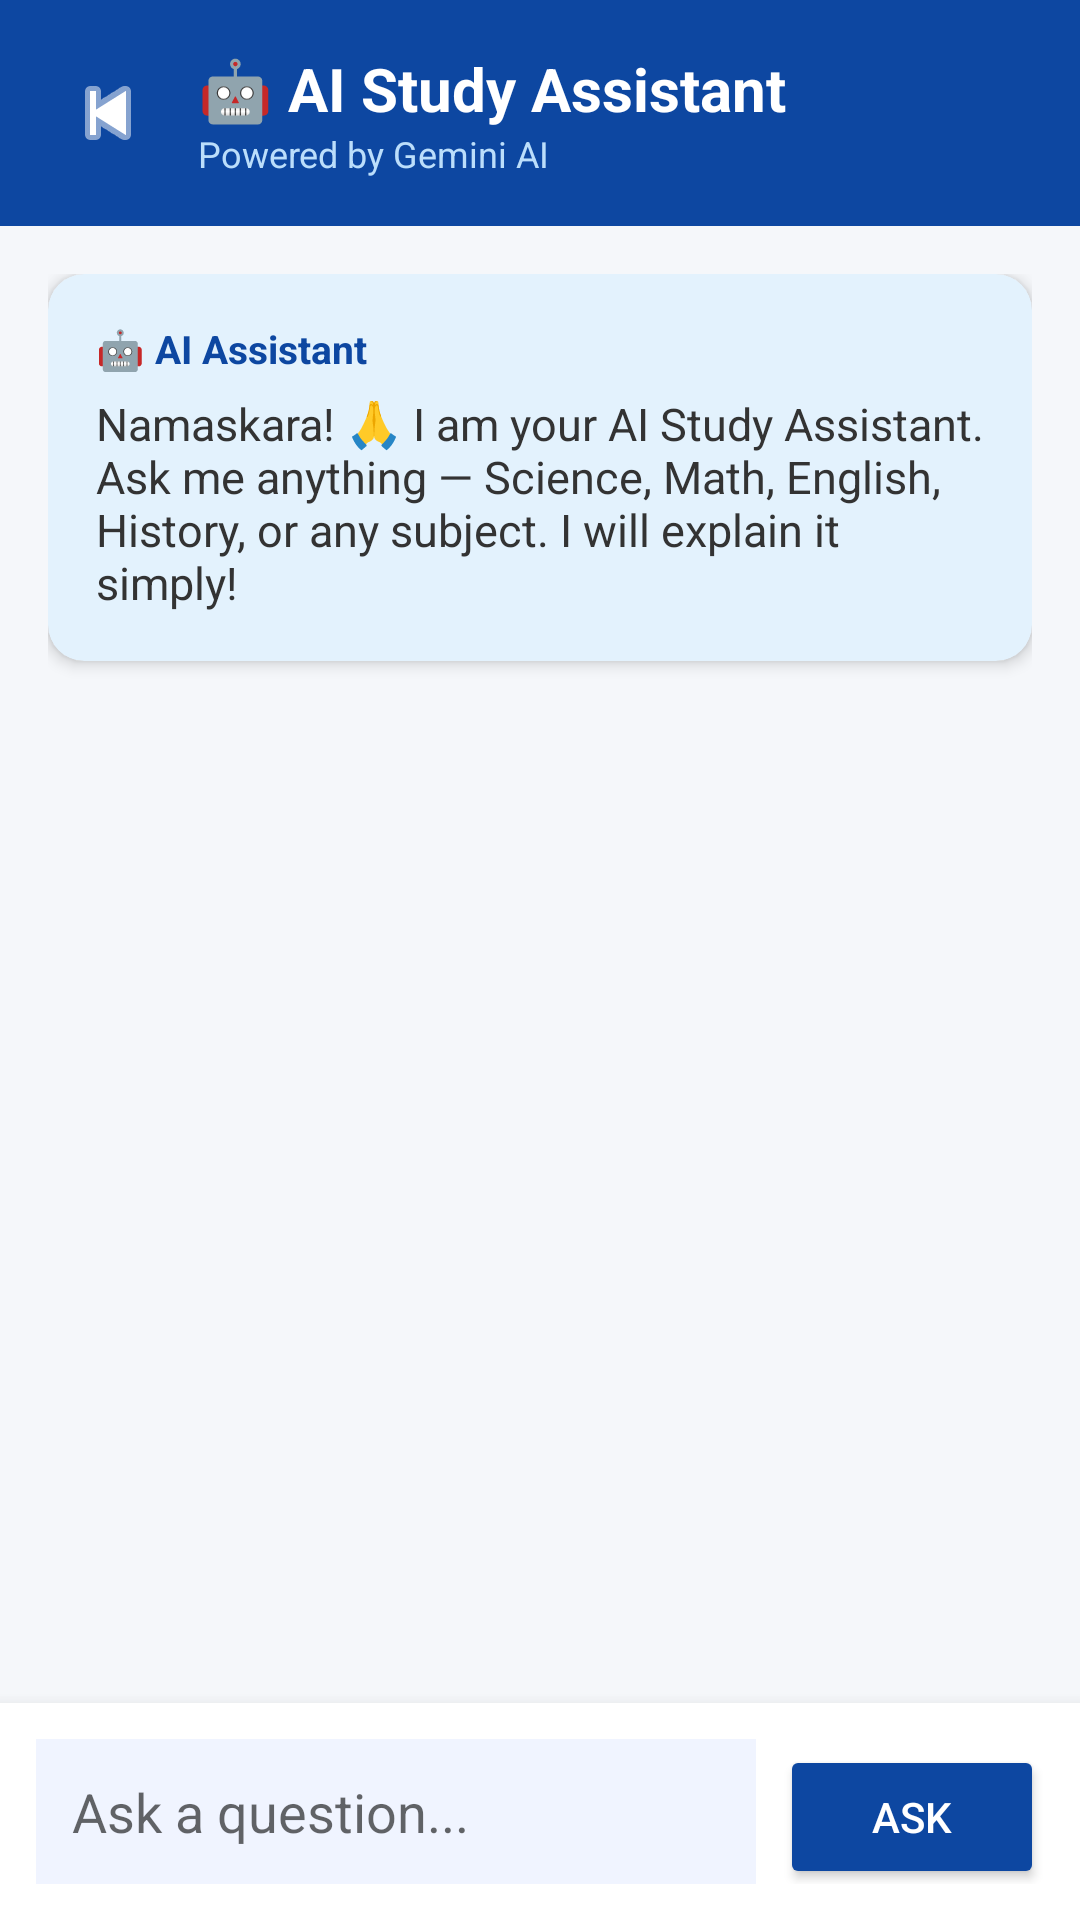

Named icons in this screenshot (1080*1920) and their centers, (x,y):
Back: (108,113)
